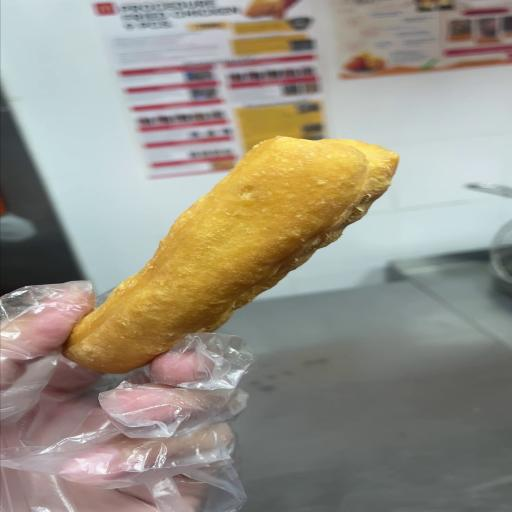brand_golden_good: (64, 137, 398, 373)
